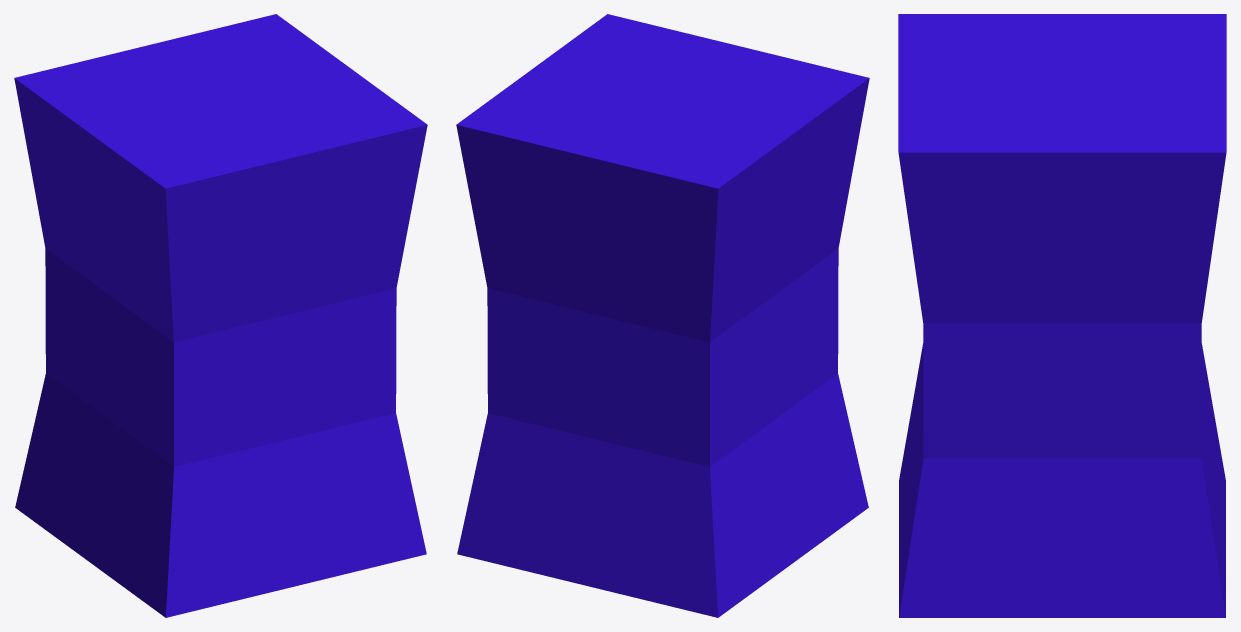
File: MartinBremer_JumpingCube.fbx
The picture shows the model from 3 angles, left to right: view 1: azimuth 30°, elevation 25°; view 2: azimuth 150°, elevation 25°; view 3: azimuth 270°, elevation 25°; orthographic projection. The views are drawn at different scales.
Visible parts, largest first — view 1: Cube; view 2: Cube; view 3: Cube.
Boxes of the visible parts, bbox=[...] form: Cube: bbox=[14, 14, 427, 617]; Cube: bbox=[456, 14, 869, 617]; Cube: bbox=[898, 14, 1226, 617].
Bounding box in the file's own units: 181 × 284 × 181.
